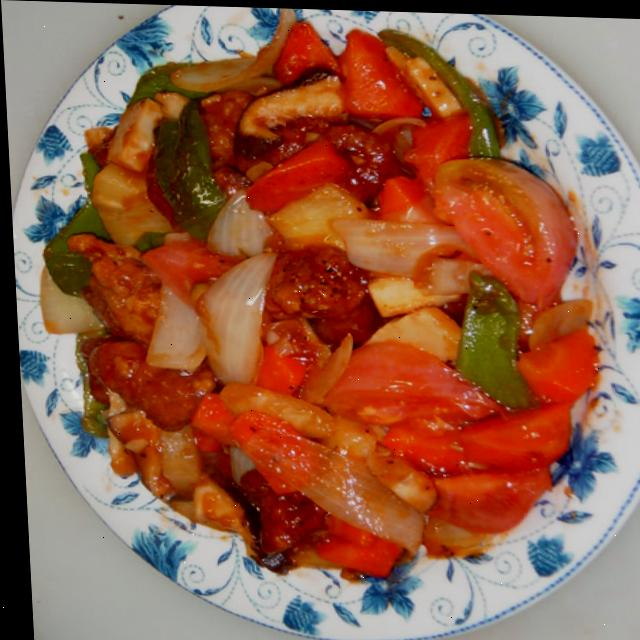猪肉菜式: (27, 1, 599, 584)
